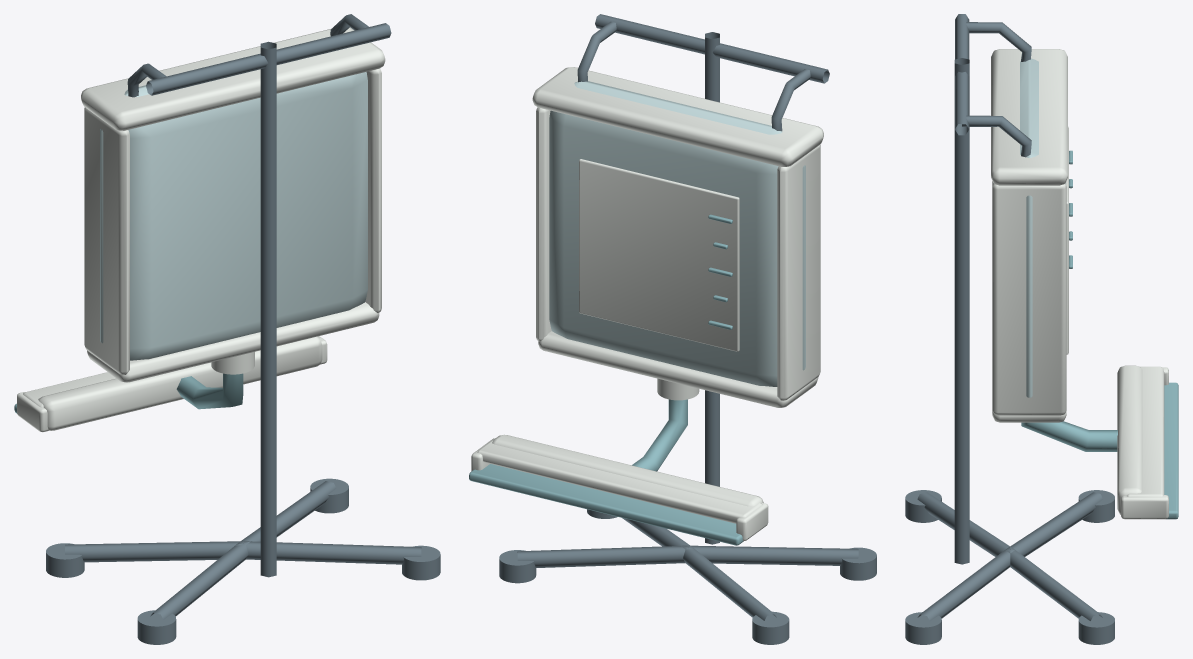
Rendered from spout-quarantine.glb.
The picture shows the model from 3 angles, left to right: view 1: azimuth 30°, elevation 25°; view 2: azimuth 150°, elevation 25°; view 3: azimuth 270°, elevation 25°; orthographic projection. The views are drawn at different scales.
Parts seen in each view (by area): view 1: quarantine_bag, quarantine_seal, quarantine_frame, quarantine_line; view 2: quarantine_seal, quarantine_bag, quarantine_frame, quarantine_line; view 3: quarantine_seal, quarantine_frame, quarantine_line, quarantine_bag.
Part boxes in pixels (left/top/right/bottom): quarantine_bag: left=100, top=72, right=367, bottom=360; quarantine_seal: left=17, top=27, right=385, bottom=432; quarantine_frame: left=46, top=14, right=440, bottom=644; quarantine_line: left=14, top=373, right=243, bottom=413; quarantine_seal: left=471, top=67, right=823, bottom=540; quarantine_bag: left=549, top=81, right=805, bottom=386; quarantine_frame: left=499, top=14, right=876, bottom=644; quarantine_line: left=469, top=214, right=743, bottom=545; quarantine_seal: left=991, top=49, right=1168, bottom=519; quarantine_frame: left=905, top=14, right=1114, bottom=644; quarantine_line: left=1021, top=150, right=1178, bottom=519; quarantine_bag: left=993, top=58, right=1065, bottom=397.
Size of the model in its own units: 6.76 by 11.8 by 5.68.
